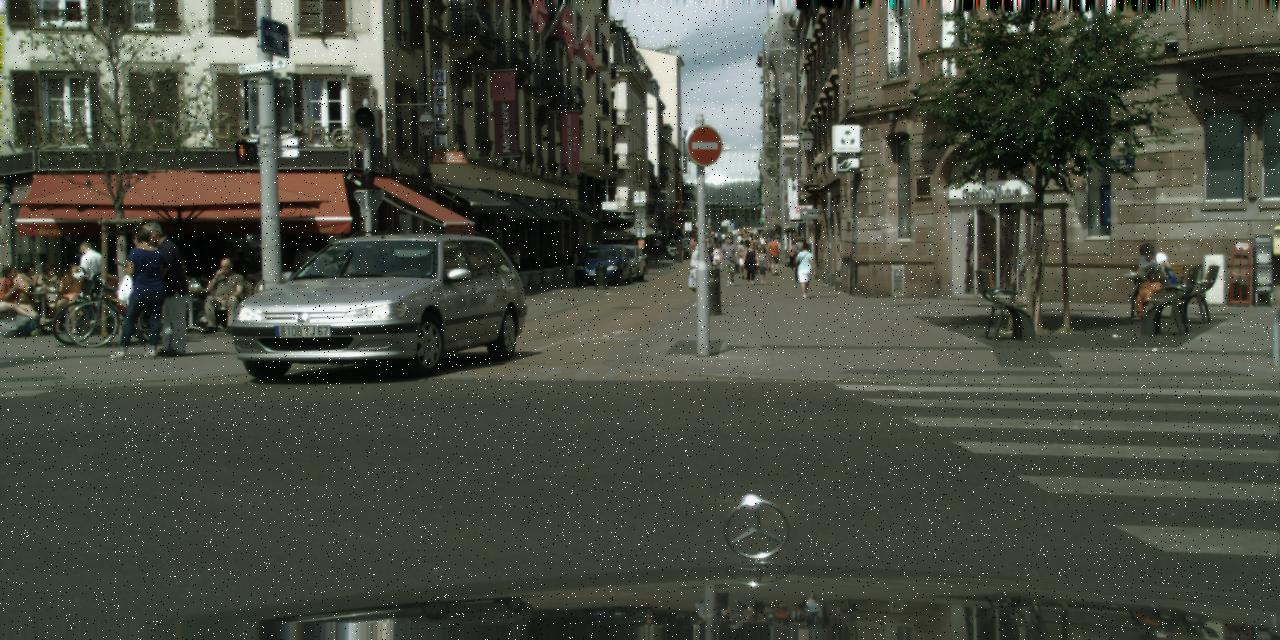ped: (134, 221, 188, 356), (112, 227, 166, 358), (71, 240, 108, 330), (682, 236, 711, 306), (794, 242, 816, 297), (720, 236, 740, 286), (788, 236, 807, 282), (742, 242, 759, 284), (766, 236, 782, 275), (737, 240, 752, 279), (755, 247, 770, 284), (748, 242, 761, 276), (709, 243, 722, 276), (787, 241, 798, 270), (711, 231, 731, 244), (707, 243, 717, 268), (716, 234, 722, 247), (705, 236, 709, 247), (706, 233, 708, 238), (707, 246, 707, 248)
